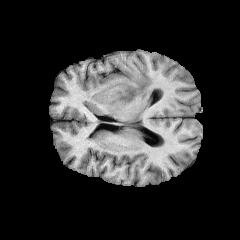glioma: (110, 69, 157, 116)
